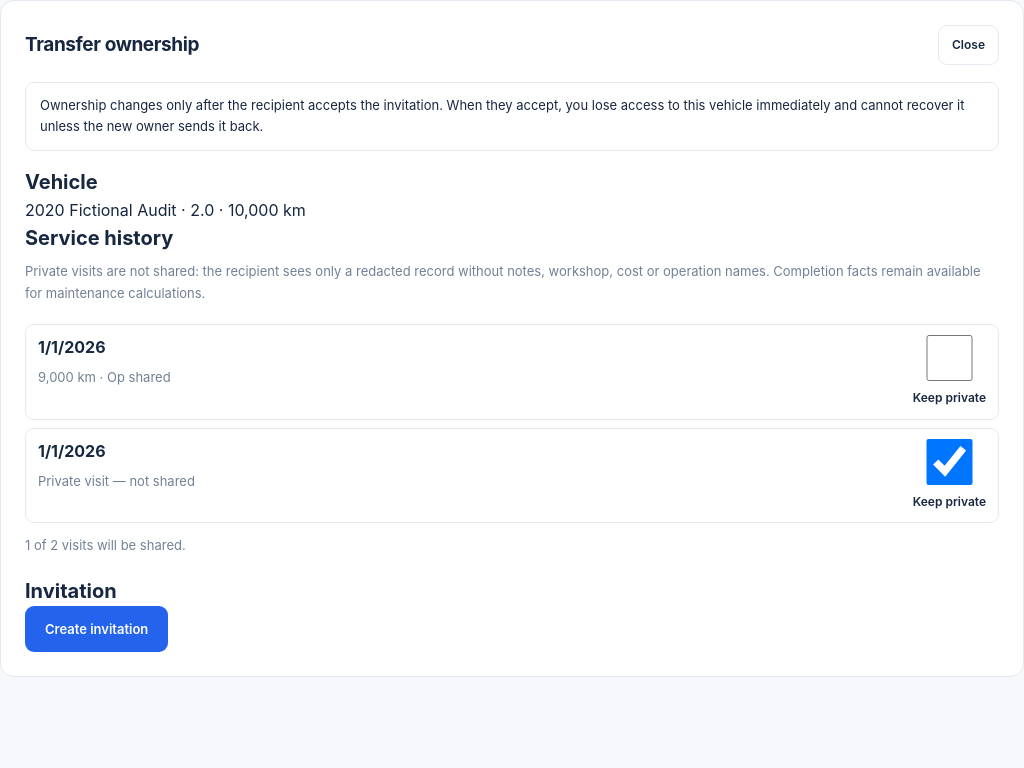
Test: creates, copies and revokes an invitation using session storage only
Check: the text "9,000 km · Op shared" is shown, box [38,367,171,388]
Step 1. Click the button "Create invitation" → point(97, 630), box [25,606,168,652]
(page scrolled)
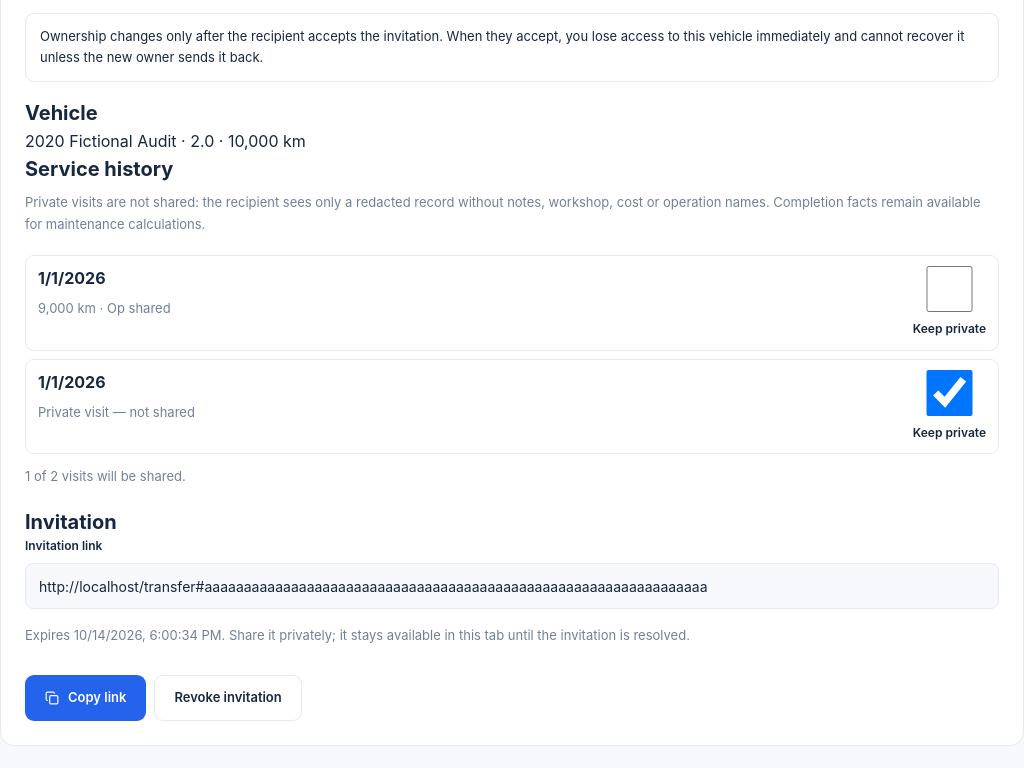
Check: the text "Expires" is shown, box [25,628,74,644]
Step 2. Click the button "Copy link" → point(86, 698), box [25,675,146,721]
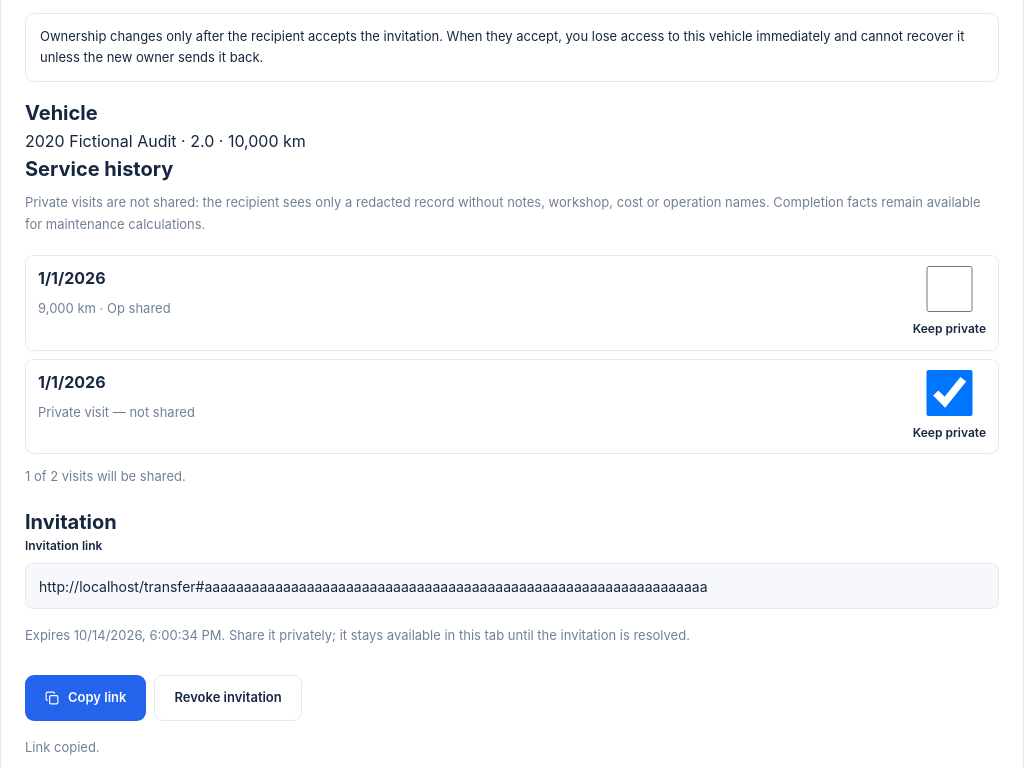
Check: the text "Link copied." is shown, box [25,739,100,755]
Step 3. Click the button "Revoke invitation" → point(228, 698), box [154,675,302,721]
(page scrolled)
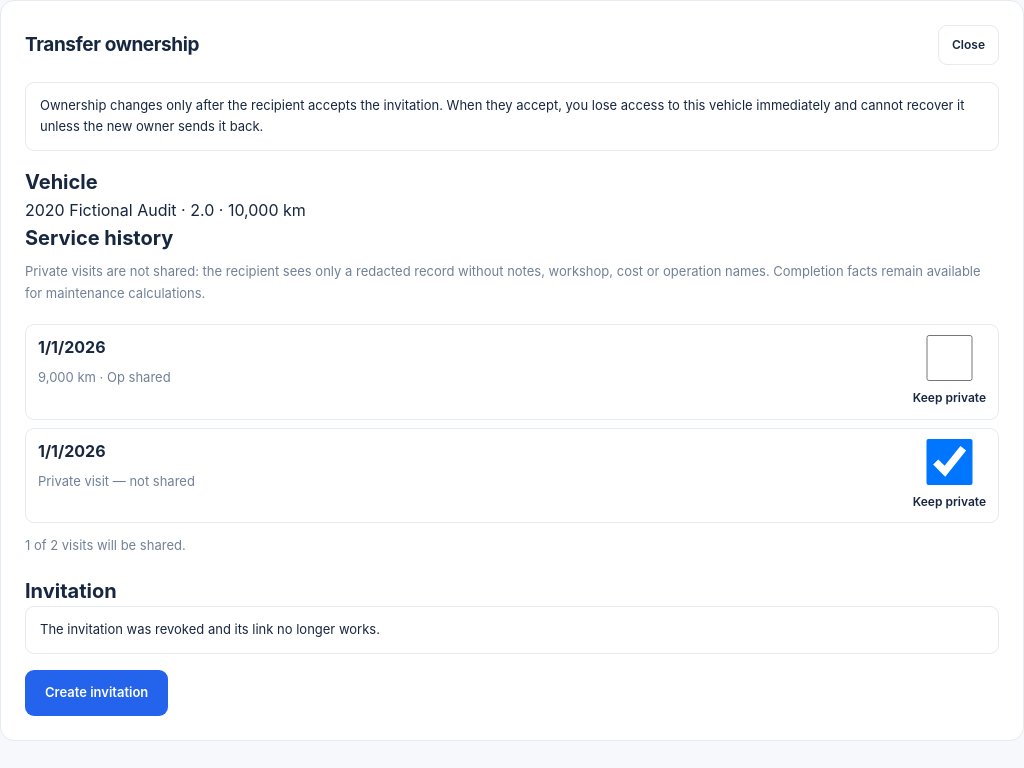
Check: the text "The invitation was revoked and its link no longer works." is shown, box [25,606,999,654]
Check: the label labelled "Invitation link" is gone
